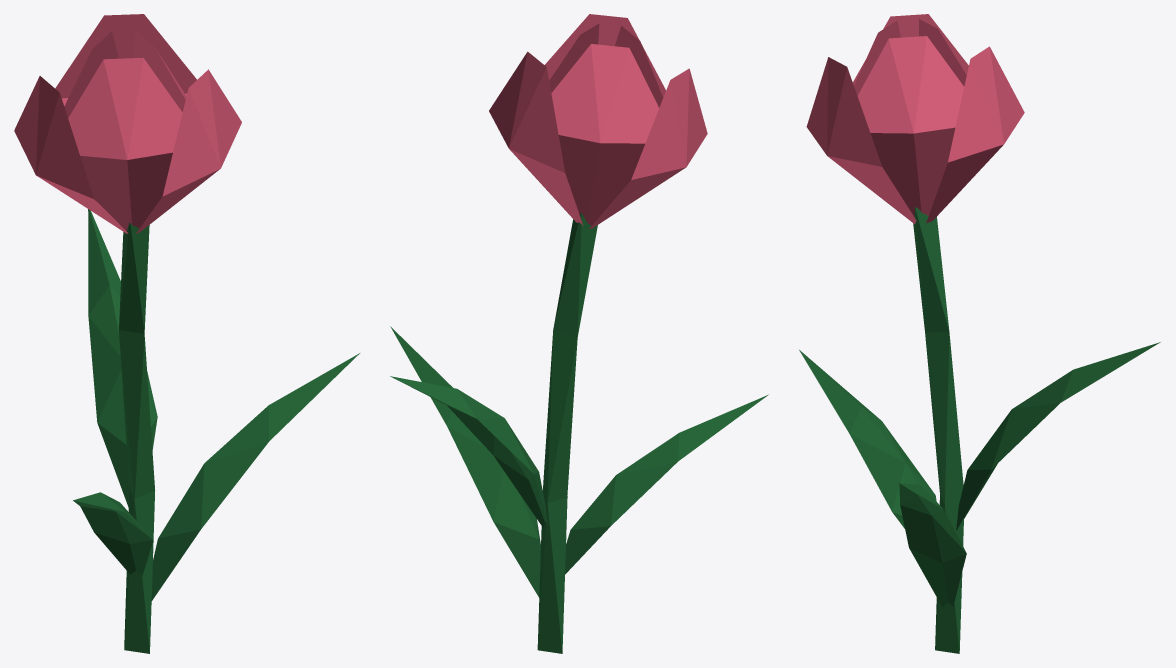
File: Prop_Flower_Tulip.obj
The picture shows the model from 3 angles, left to right: view 1: azimuth 30°, elevation 25°; view 2: azimuth 150°, elevation 25°; view 3: azimuth 270°, elevation 25°; orthographic projection. The views are drawn at different scales.
Visible parts, largest first — view 1: object8, object7, object10, object9, object13, object2, object6, object5, object12, object3, object4, object11; view 2: object4, object6, object7, object5, object13, object10, object2, object12, object3, object9, object8, object11; view 3: object11, object6, object9, object10, object5, object7, object2, object3, object12, object13, object8, object4.
Part boxes in pixels (bbox=[...]): object8: bbox=[68, 57, 182, 231]; object7: bbox=[151, 353, 359, 600]; object10: bbox=[88, 209, 157, 506]; object9: bbox=[136, 69, 241, 233]; object13: bbox=[14, 76, 128, 233]; object2: bbox=[119, 330, 154, 498]; object6: bbox=[55, 14, 196, 105]; object5: bbox=[73, 492, 153, 575]; object12: bbox=[124, 487, 155, 653]; object3: bbox=[119, 222, 149, 333]; object4: bbox=[64, 31, 118, 223]; object11: bbox=[132, 30, 186, 111]; object4: bbox=[551, 44, 659, 225]; object6: bbox=[489, 51, 583, 226]; object7: bbox=[390, 326, 540, 597]; object5: bbox=[565, 394, 768, 574]; object13: bbox=[589, 68, 707, 229]; object10: bbox=[390, 376, 548, 528]; object2: bbox=[542, 330, 577, 503]; object12: bbox=[537, 495, 567, 653]; object3: bbox=[553, 213, 597, 337]; object9: bbox=[545, 14, 665, 97]; object8: bbox=[615, 26, 662, 107]; object11: bbox=[549, 23, 599, 92]; object11: bbox=[857, 36, 964, 216]; object6: bbox=[926, 46, 1024, 223]; object9: bbox=[806, 57, 916, 224]; object10: bbox=[956, 342, 1160, 530]; object5: bbox=[799, 350, 936, 528]; object7: bbox=[899, 483, 966, 607]; object2: bbox=[925, 332, 963, 504]; object3: bbox=[913, 207, 949, 332]; object12: bbox=[935, 495, 963, 653]; object13: bbox=[853, 14, 968, 85]; object8: bbox=[854, 20, 900, 95]; object4: bbox=[919, 19, 966, 86].
Size of the model in its own units: 0.3275 by 0.5799 by 0.3152.
